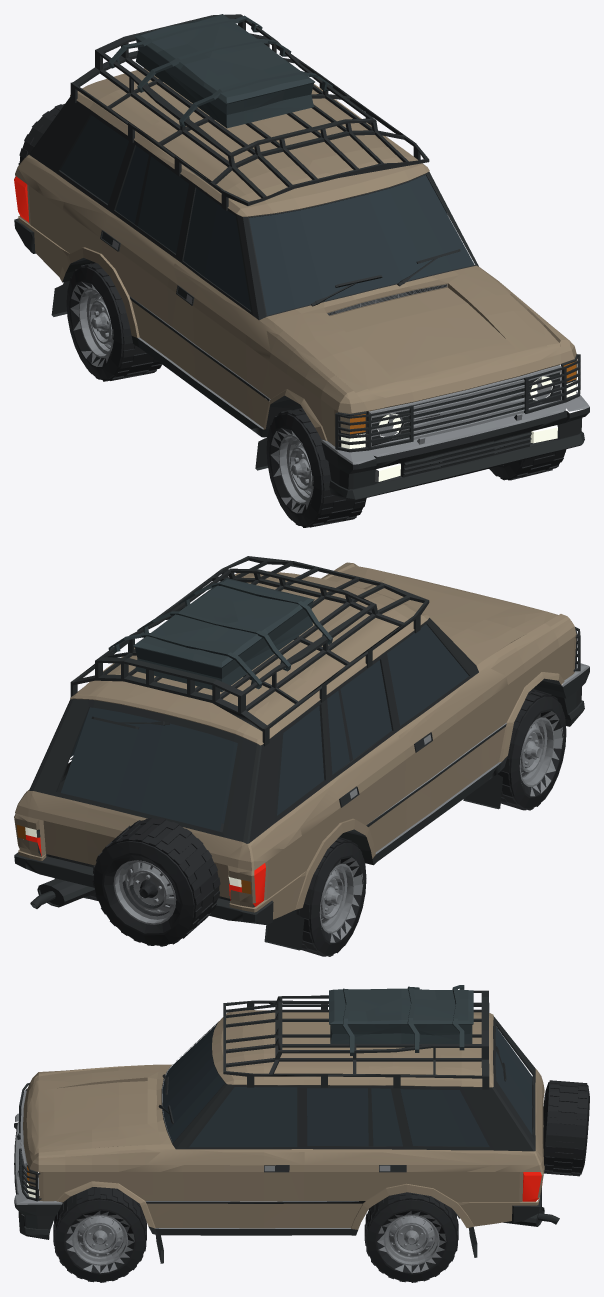
File: rover-traffic.glb
3 renders of one model, top to bottom at view 1: azimuth 30°, elevation 25°; view 2: azimuth 150°, elevation 25°; view 3: azimuth 270°, elevation 25°, orthographic. The views are drawn at different scales.
Visible parts, largest first — view 1: Body, WheelFrontR, WheelRearR, WheelFrontL; view 2: Body, WheelFrontR, WheelRearR; view 3: Body, WheelFrontL, WheelRearL.
Part boxes in pixels (x1=…): Body: x1=14, y1=14, x2=589, y2=500; WheelFrontR: x1=266, y1=408, x2=366, y2=527; WheelRearR: x1=66, y1=262, x2=161, y2=381; WheelFrontL: x1=489, y1=384, x2=566, y2=480; Body: x1=14, y1=556, x2=589, y2=950; WheelFrontR: x1=497, y1=689, x2=566, y2=810; WheelRearR: x1=296, y1=837, x2=366, y2=956; Body: x1=14, y1=985, x2=589, y2=1263; WheelFrontL: x1=53, y1=1187, x2=146, y2=1282; WheelRearL: x1=364, y1=1192, x2=458, y2=1282.
Bounding box in the file's own units: 1.81 × 2.09 × 4.65.
